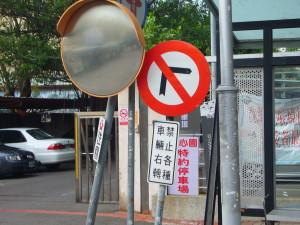no_right_turn: (137, 39, 210, 115)
